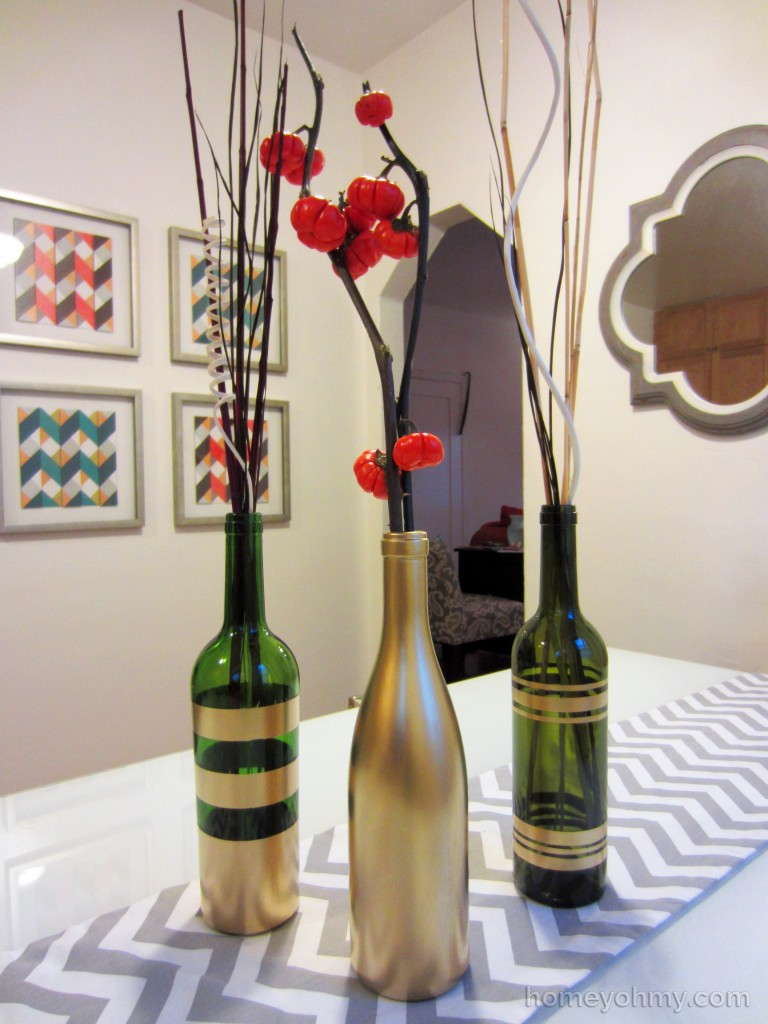bottle: (347, 527, 473, 1001), (194, 508, 313, 937), (507, 506, 609, 911)
